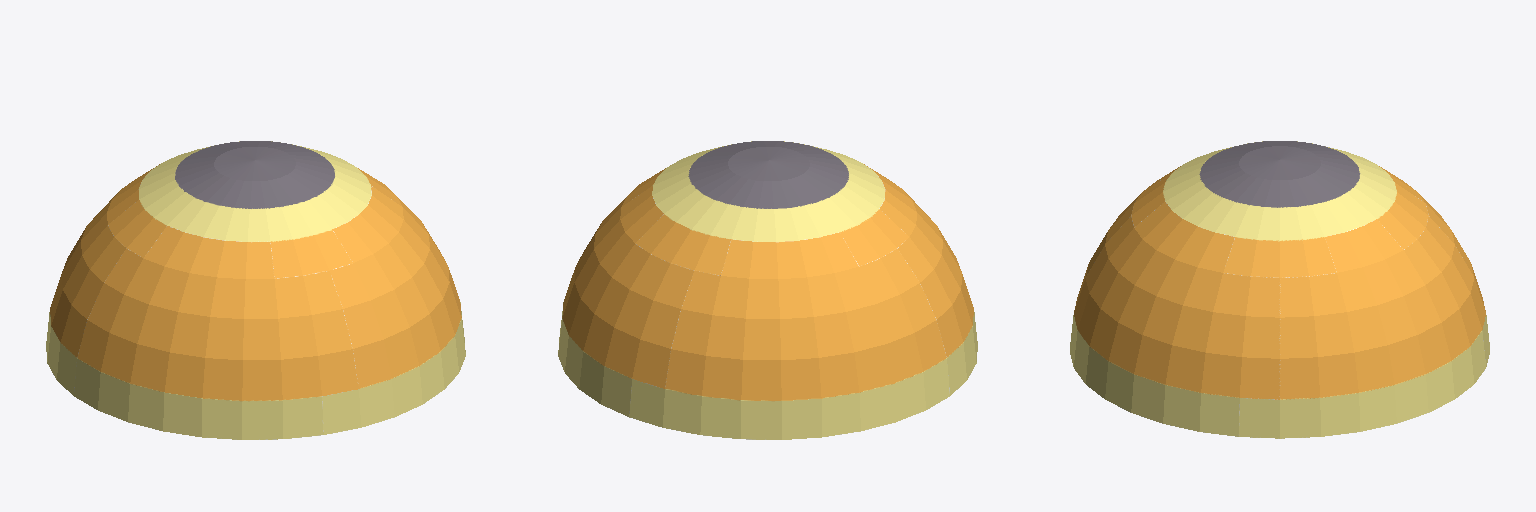
3 renders of one model, left to right at view 1: azimuth 30°, elevation 25°; view 2: azimuth 150°, elevation 25°; view 3: azimuth 270°, elevation 25°, orthographic.
Visible parts, largest first — view 1: 球; view 2: 球; view 3: 球.
Boxes of the visible parts, x1=… form: 球: x1=46, y1=141, x2=465, y2=439; 球: x1=558, y1=141, x2=977, y2=439; 球: x1=1070, y1=141, x2=1489, y2=438.
Bounding box in the file's own units: 2 × 1.01 × 2.
Materials: 1 (1 with a texture image).